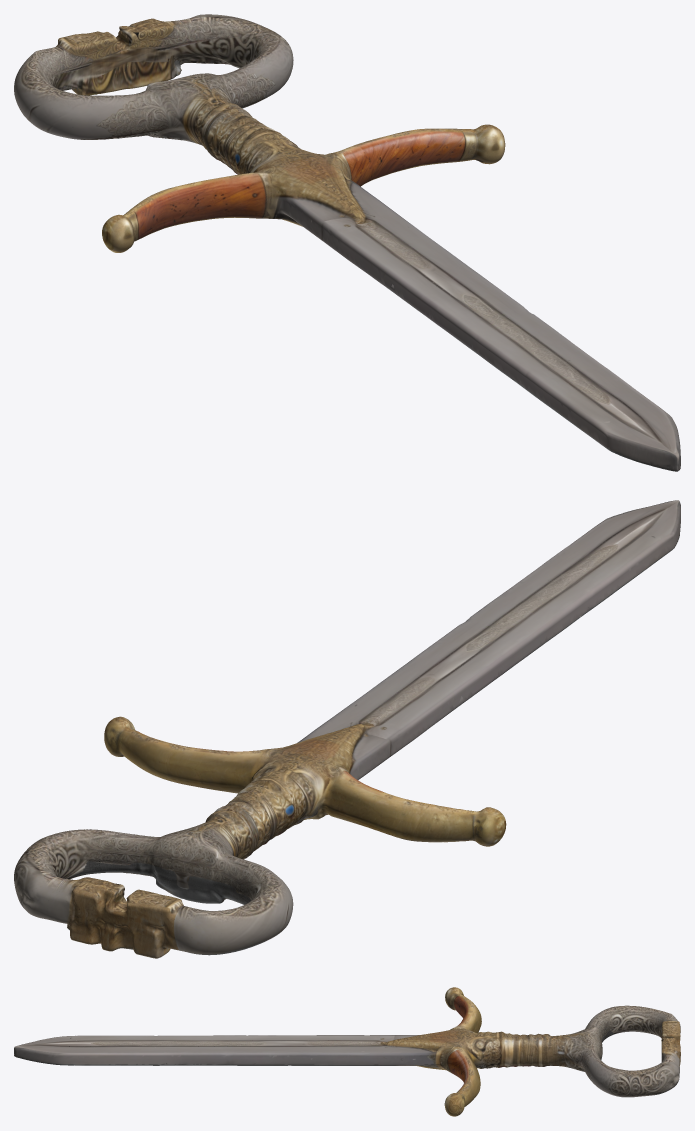
The model's file is sword_key_0901101726_texture.fbx.
3 renders of one model, top to bottom at view 1: azimuth 30°, elevation 25°; view 2: azimuth 150°, elevation 25°; view 3: azimuth 270°, elevation 25°, orthographic. The views are drawn at different scales.
Parts seen in each view (by area): view 1: Mesh_0; view 2: Mesh_0; view 3: Mesh_0.
Boxes of the visible parts, x1,y1,x2,y2 form: Mesh_0: [14, 14, 680, 471]; Mesh_0: [14, 500, 680, 958]; Mesh_0: [14, 987, 680, 1116].
Bounding box in the file's own units: 80.67 × 12.23 × 199.
Materials: 1 (1 with a texture image).
